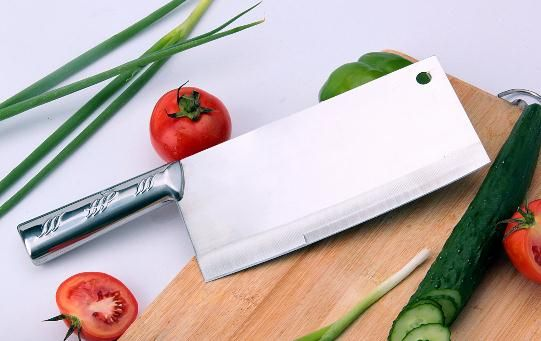knief: (15, 61, 474, 283)
